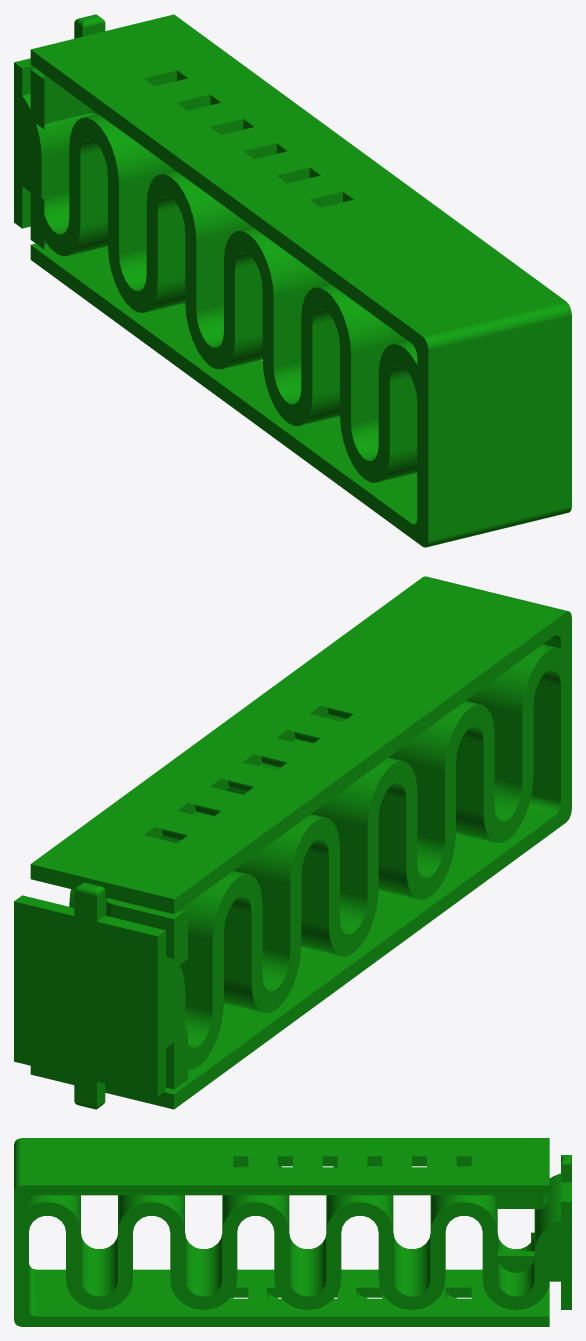
File: Lanzador.obj
3 renders of one model, top to bottom at view 1: azimuth 30°, elevation 25°; view 2: azimuth 150°, elevation 25°; view 3: azimuth 270°, elevation 25°, orthographic. The views are drawn at different scales.
Visible parts, largest first — view 1: Sólido1; view 2: Sólido1; view 3: Sólido1.
Part boxes in pixels (bbox=[...]): Sólido1: bbox=[14, 14, 571, 547]; Sólido1: bbox=[14, 576, 571, 1109]; Sólido1: bbox=[14, 1138, 571, 1326].
Bounding box in the file's own units: 30 × 44 × 150.
